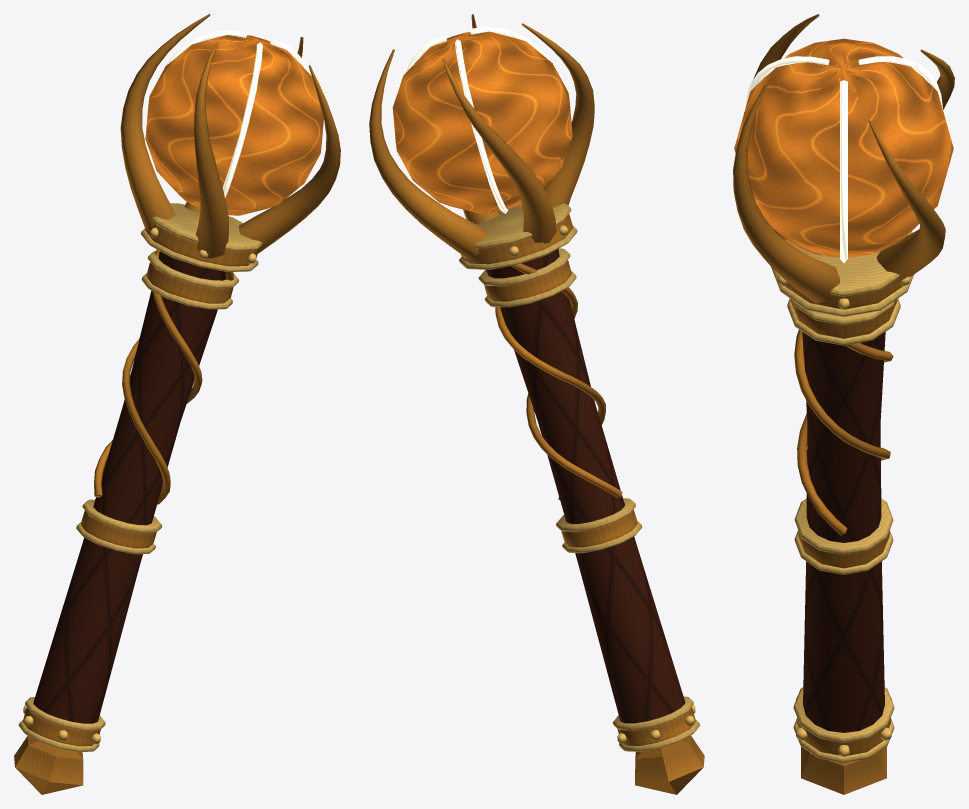
Rendered from fire_rod.glb.
3 renders of one model, left to right at view 1: azimuth 30°, elevation 25°; view 2: azimuth 150°, elevation 25°; view 3: azimuth 270°, elevation 25°, orthographic. The views are drawn at different scales.
Visible parts, largest first — view 1: Wrapped shaft, Luminous focus, Crown talon (×3), Collar edge (×6), Engraved collar (×4), Winding metal inlay (×2), Pommel, Focus surface arc; view 2: Wrapped shaft, Luminous focus, Crown talon (×3), Collar edge (×6), Engraved collar (×4), Winding metal inlay (×2), Pommel, Focus surface arc; view 3: Luminous focus, Wrapped shaft, Crown talon (×4), Collar edge (×8), Engraved collar (×4), Winding metal inlay (×2), Focus surface arc (×3), Pommel.
Boxes of the visible parts, x1=… form: Wrapped shaft: x1=33, y1=251, x2=226, y2=723; Luminous focus: x1=145, y1=35, x2=323, y2=215; Crown talon (×3): x1=120, y1=14, x2=340, y2=258; Collar edge (×6): x1=25, y1=203, x2=262, y2=730; Engraved collar (×4): x1=23, y1=224, x2=257, y2=746; Winding metal inlay (×2): x1=94, y1=249, x2=233, y2=504; Pommel: x1=14, y1=736, x2=83, y2=794; Focus surface arc: x1=222, y1=42, x2=262, y2=197; Wrapped shaft: x1=486, y1=249, x2=685, y2=723; Luminous focus: x1=392, y1=31, x2=572, y2=212; Crown talon (×3): x1=369, y1=23, x2=594, y2=259; Collar edge (×6): x1=459, y1=203, x2=693, y2=730; Engraved collar (×4): x1=461, y1=214, x2=695, y2=745; Winding metal inlay (×2): x1=495, y1=263, x2=622, y2=499; Pommel: x1=635, y1=735, x2=704, y2=794; Focus surface arc: x1=455, y1=39, x2=507, y2=213; Luminous focus: x1=734, y1=38, x2=953, y2=257; Wrapped shaft: x1=802, y1=332, x2=885, y2=732; Crown talon (×4): x1=733, y1=14, x2=954, y2=303; Collar edge (×8): x1=770, y1=231, x2=913, y2=762; Engraved collar (×4): x1=785, y1=279, x2=902, y2=755; Winding metal inlay (×2): x1=794, y1=329, x2=893, y2=535; Focus surface arc (×3): x1=744, y1=56, x2=942, y2=262; Pommel: x1=801, y1=746, x2=886, y2=794.
Size of the model in its own units: 181 by 408 by 94.57.
Materials: 5 (4 with a texture image).
